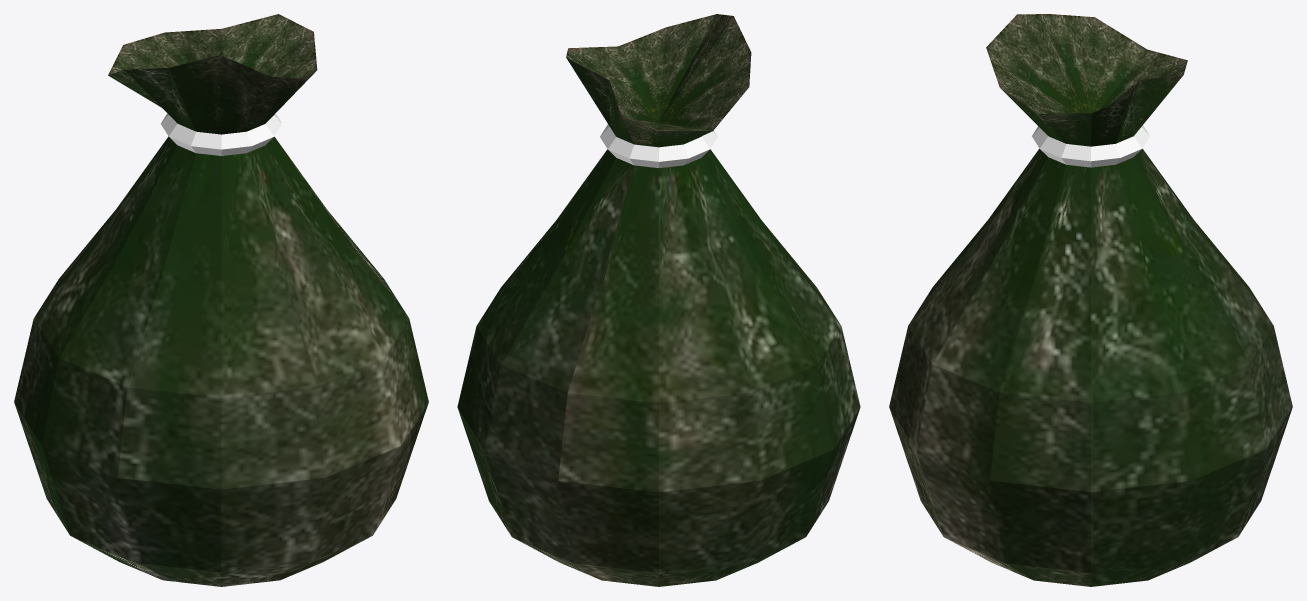
File: GS_MIX_GREEN_02_SZCZAWIK.glb
3 renders of one model, left to right at view 1: azimuth 30°, elevation 25°; view 2: azimuth 150°, elevation 25°; view 3: azimuth 270°, elevation 25°, orthographic. The views are drawn at different scales.
Visible parts, largest first — view 1: GS_MIX_GREEN_02_SZCZAWIK; view 2: GS_MIX_GREEN_02_SZCZAWIK; view 3: GS_MIX_GREEN_02_SZCZAWIK.
Boxes of the visible parts, bbox=[...] form: GS_MIX_GREEN_02_SZCZAWIK: bbox=[14, 14, 428, 586]; GS_MIX_GREEN_02_SZCZAWIK: bbox=[457, 14, 860, 586]; GS_MIX_GREEN_02_SZCZAWIK: bbox=[889, 14, 1292, 586].
Bounding box in the file's own units: 0.2801 × 0.3871 × 0.2801.
2 materials, 1 textured.
